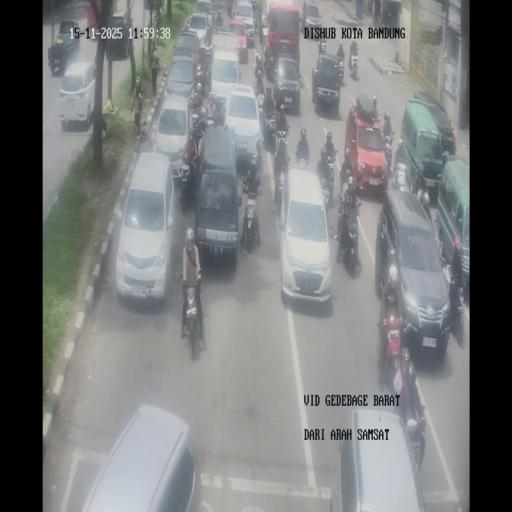3: (376, 183, 452, 356)
car: (71, 404, 197, 510), (115, 150, 174, 302), (279, 167, 331, 307), (194, 125, 241, 266), (400, 96, 454, 198), (344, 100, 387, 196), (153, 94, 194, 179), (223, 82, 263, 169), (58, 61, 97, 130), (311, 52, 343, 114), (47, 20, 82, 76), (211, 28, 244, 82), (272, 55, 301, 116), (164, 52, 198, 103), (108, 11, 133, 58), (232, 1, 256, 42), (185, 10, 211, 46), (302, 0, 322, 35)
truck: (178, 274, 204, 359), (335, 195, 360, 273), (445, 269, 465, 346), (382, 310, 404, 380), (239, 189, 261, 253), (405, 410, 427, 469), (318, 156, 336, 210), (179, 159, 196, 209), (273, 166, 287, 217), (391, 158, 411, 193), (414, 180, 431, 220), (246, 160, 263, 198), (210, 93, 229, 126), (262, 102, 276, 146), (195, 58, 210, 96), (382, 132, 394, 178), (276, 127, 290, 162), (136, 123, 151, 152), (190, 101, 203, 133), (340, 158, 353, 190), (252, 71, 264, 105), (264, 38, 274, 78), (348, 46, 359, 78), (381, 110, 393, 137), (196, 129, 204, 169), (297, 153, 309, 171), (338, 55, 345, 82), (258, 12, 264, 43), (252, 12, 259, 34), (337, 42, 345, 58), (378, 2, 384, 23), (319, 40, 326, 54), (231, 0, 237, 16), (250, 0, 257, 13), (216, 18, 222, 33)
